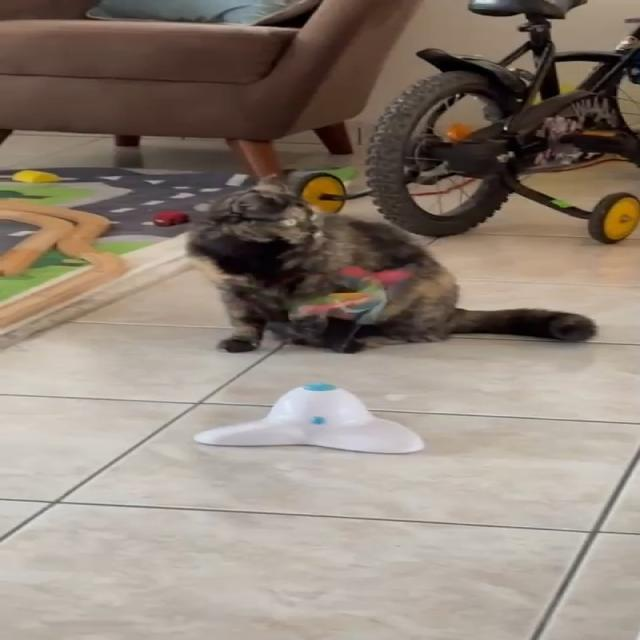authorized: (183, 179, 597, 354)
